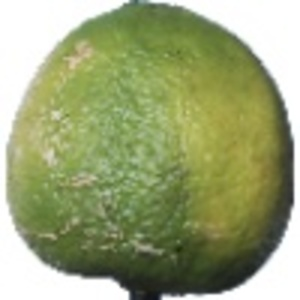limão: (5, 1, 294, 300)
